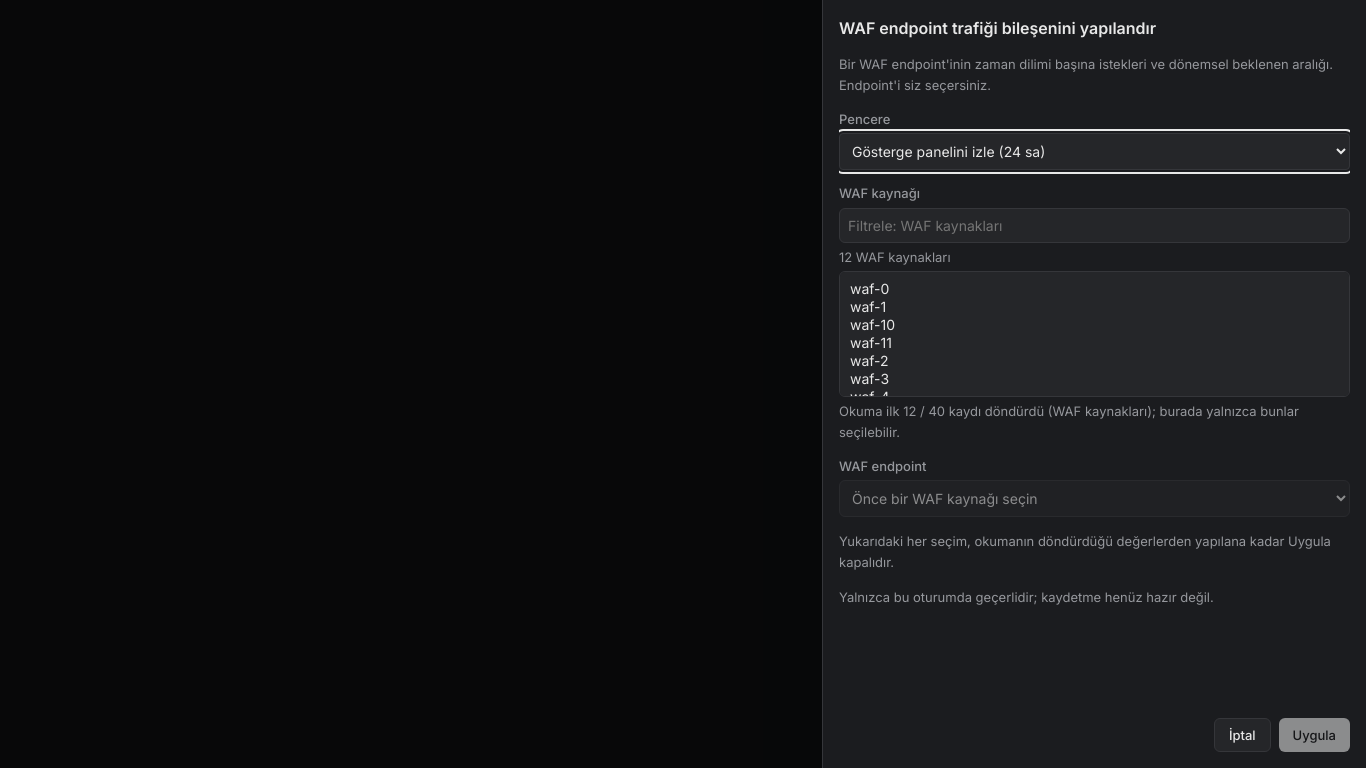
it: the configure drawer in Turkish › words the filter, the counts and the truncated read of a long list
This screenshot has width=1366, height=768.
Expected: the text "12 WAF kaynakları" is shown, 839,249 -> 950,265
Type "waf-1" into the search field with placeholder "Filtrele: WAF kaynakları".
click(1094, 225); type("waf-1")  # box 839,208 -> 1350,243
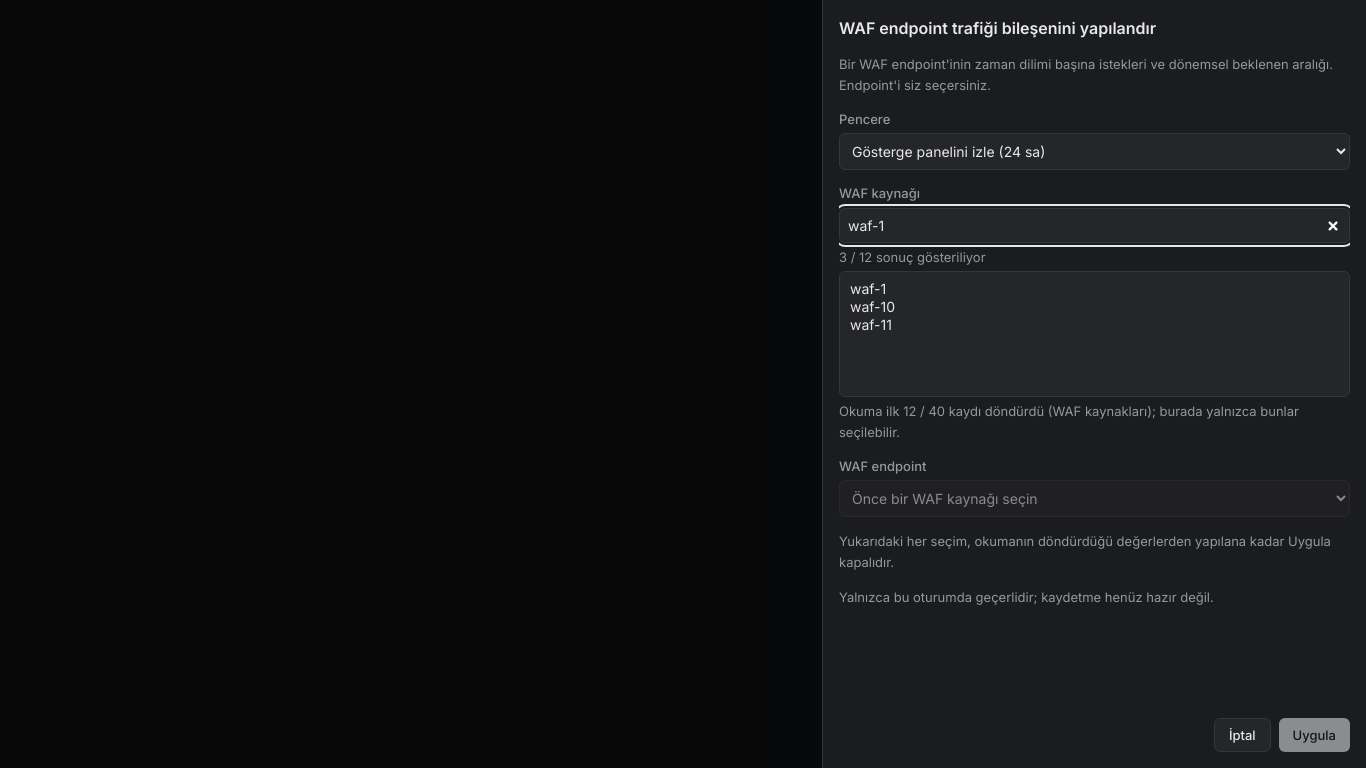
Expected: the text "Okuma ilk 12 / 40 kaydı döndürdü" is shown, 839,403 -> 1299,440
Now the text "3 / 12 sonuç gösteriliyor" is shown, box 839,249 -> 986,265
